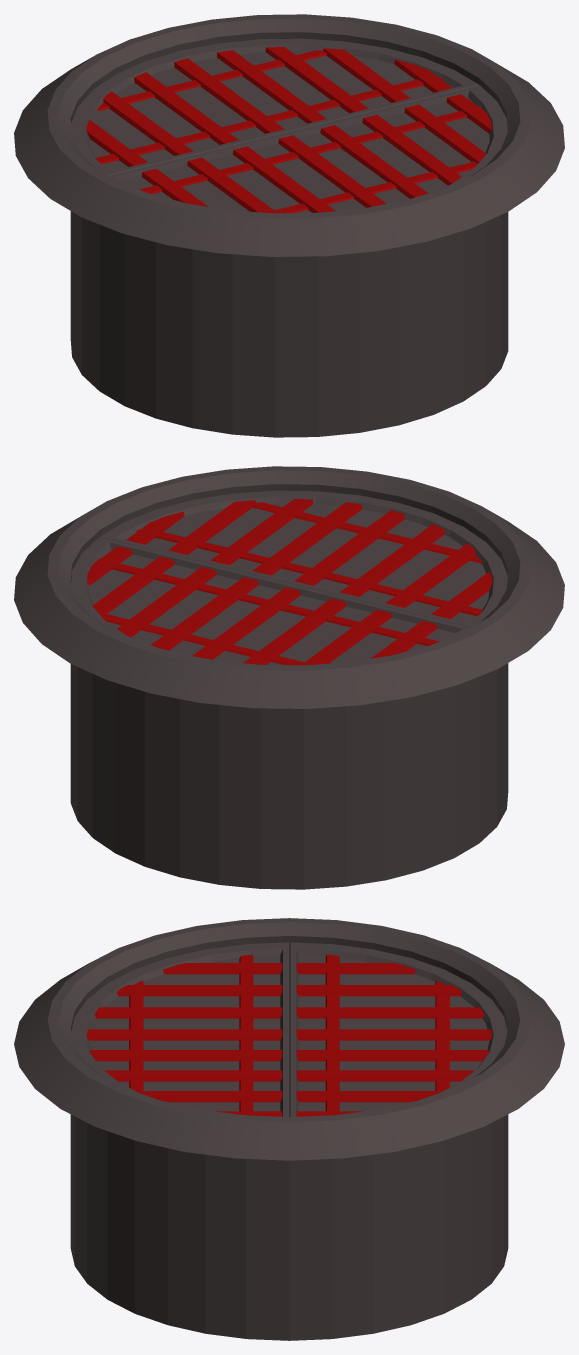
The model's file is BossDoor.fbx.
The picture shows the model from 3 angles, top to bottom: view 1: azimuth 30°, elevation 25°; view 2: azimuth 150°, elevation 25°; view 3: azimuth 270°, elevation 25°; orthographic projection.
Visible parts, largest first — view 1: Base, DoorR, DoorL; view 2: Base, DoorL, DoorR; view 3: Base, DoorL, DoorR.
Boxes of the visible parts, box(x1,y1,x2,y2) form: Base: box(14, 14, 564, 437); DoorR: box(71, 38, 478, 175); DoorL: box(109, 85, 507, 213); Base: box(14, 466, 564, 889); DoorL: box(100, 490, 507, 627); DoorR: box(71, 537, 469, 665); Base: box(14, 918, 564, 1340); DoorL: box(71, 942, 289, 1116); DoorR: box(289, 942, 507, 1116).
Size of the model in its own units: 1092 by 500 by 1092.
